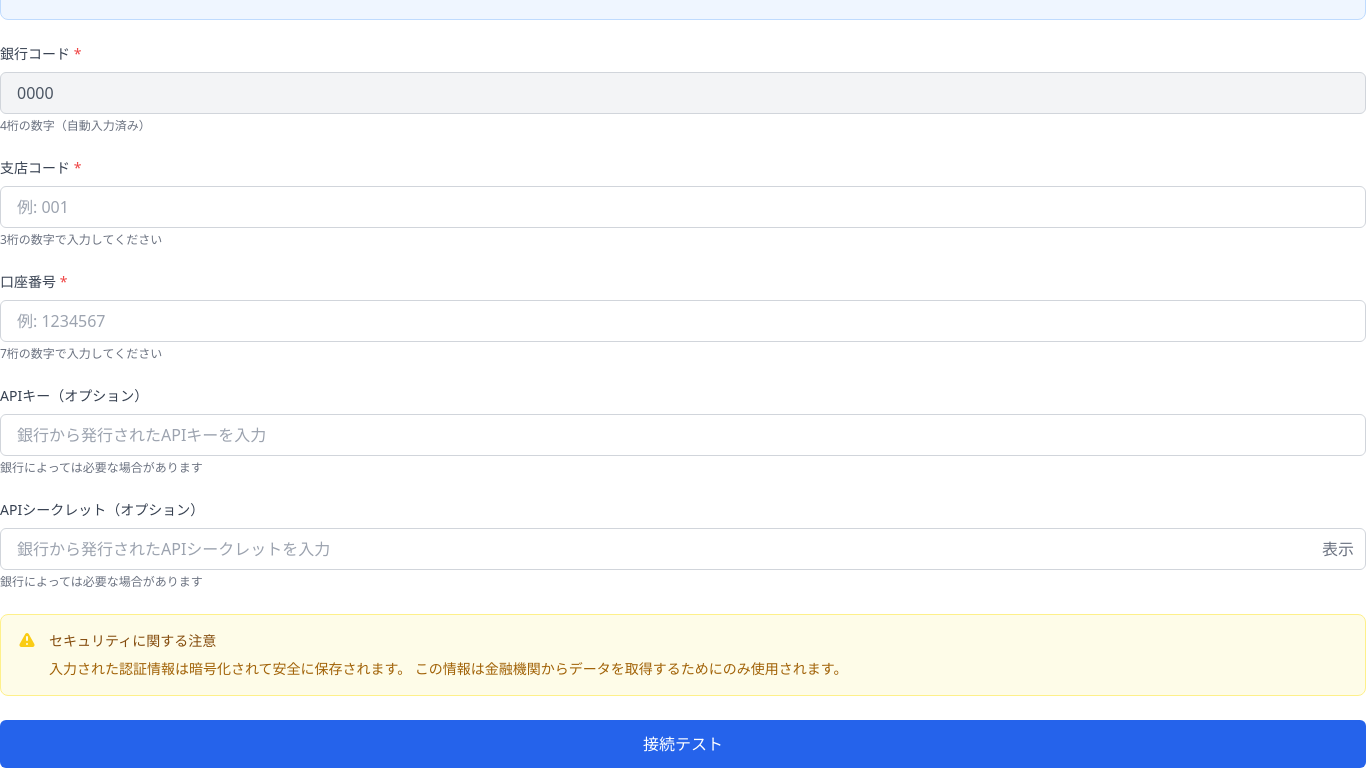
it: BankCredentialsForm › should validate all required fields
(page scrolled)
Click the button "接続テスト": (683, 744) left=0, top=720, right=1365, bottom=767
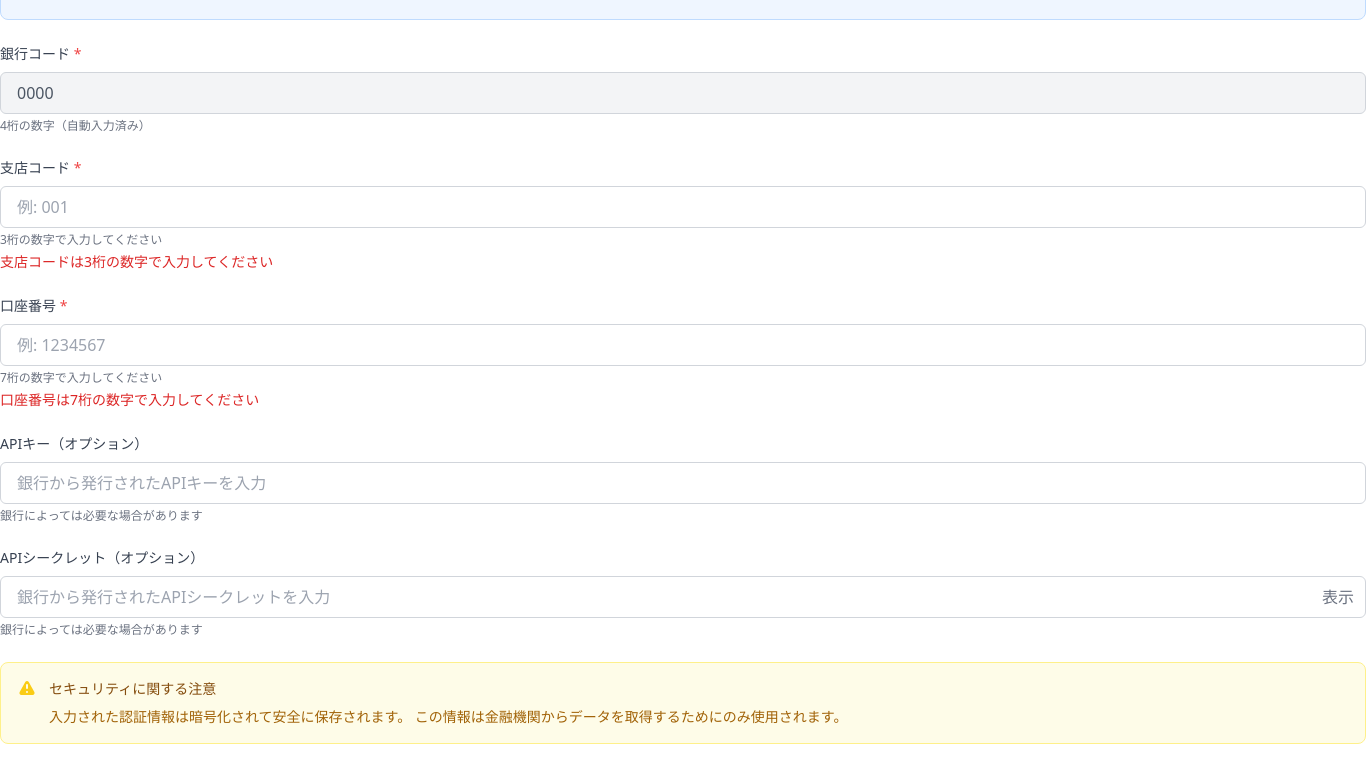
Result: the text "支店コードは3桁の数字で入力してください" is shown at left=0, top=252, right=273, bottom=271
Result: the text "口座番号は7桁の数字で入力してください" is shown at left=0, top=390, right=259, bottom=409
